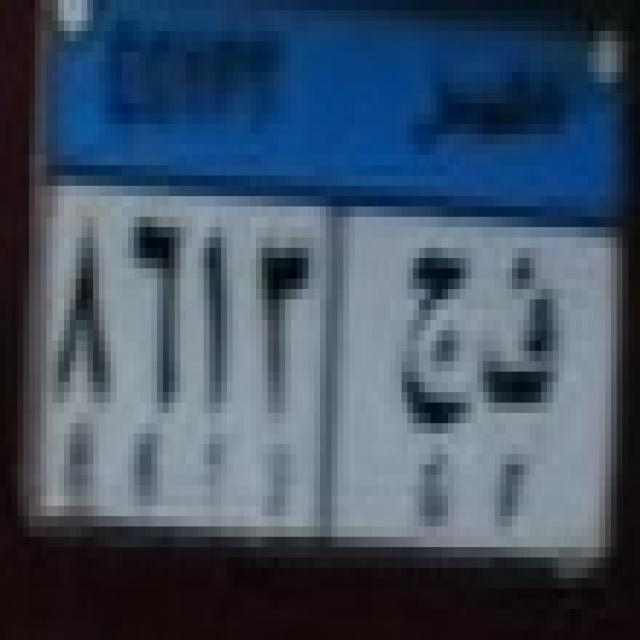1: (198, 222, 242, 405)
3: (254, 234, 322, 417)
6: (126, 211, 192, 403)
8: (55, 218, 124, 414)
F: (489, 242, 573, 416)
geem: (398, 246, 482, 434)
